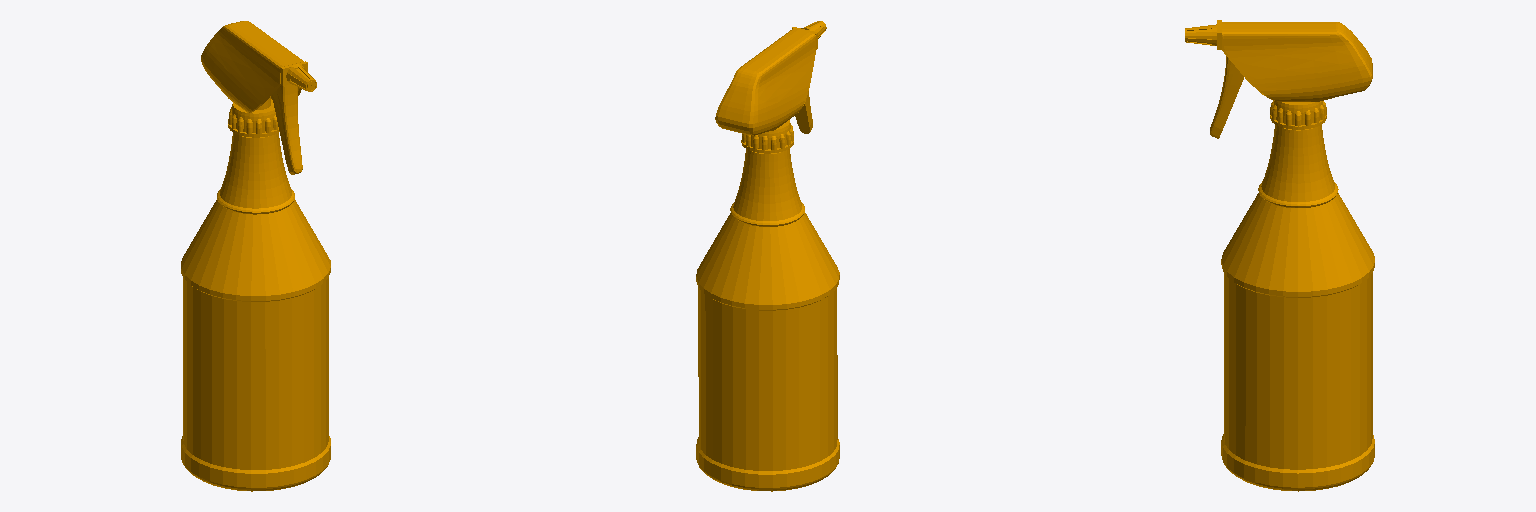
The robot description file, URDF, robot "none":
<robot name="none">
       <link name="none">
           <visual>
               <origin rpy="1.57 0 0" xyz="0 0 0" />
               <geometry>
                   <mesh filename="spray-bottle.obj" />
               </geometry>
           </visual>
          <collision>
              <geometry>
                  <box size="0.319287 1.000000 0.395814" />
              </geometry>
          </collision>

          <inertial>
            <mass value="0.0" />
            <inertia ixx="0.0" ixy="0.0" ixz="0.0" iyy="0.0" iyz="0.0" izz="0.0" />
          </inertial>
      </link>
  </robot>

--- Render facts (derived) ---
3 views of the same robot in one strip: view 1: azimuth 30°, elevation 25°; view 2: azimuth 150°, elevation 25°; view 3: azimuth 270°, elevation 25° (orthographic).
Robot: none — 1 links, 0 joints (none); root link none; default pose: every joint at zero.
Links seen in each view (by area): view 1: none; view 2: none; view 3: none.
Boxes of the visible links, box(x1,y1,x2,y2) form: none: box(181, 21, 330, 491); none: box(696, 21, 839, 491); none: box(1185, 20, 1374, 491).
Size in the robot's own frame: 0.3193 by 0.3954 by 1 metres.
1 mesh visuals loaded from 1 distinct referenced files (1 OBJ).